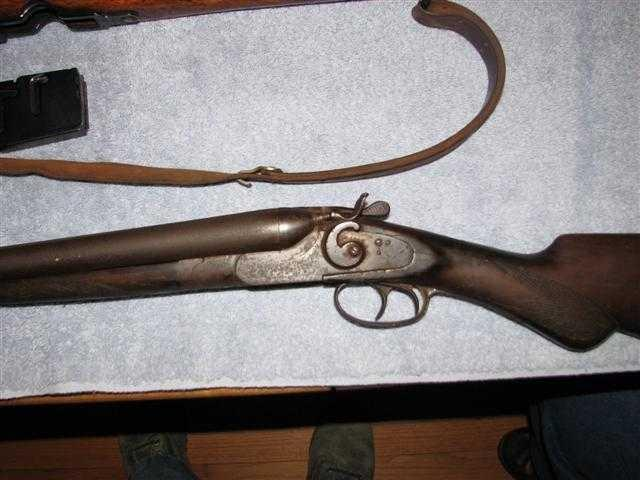heavyweapon: (0, 151, 638, 364)
